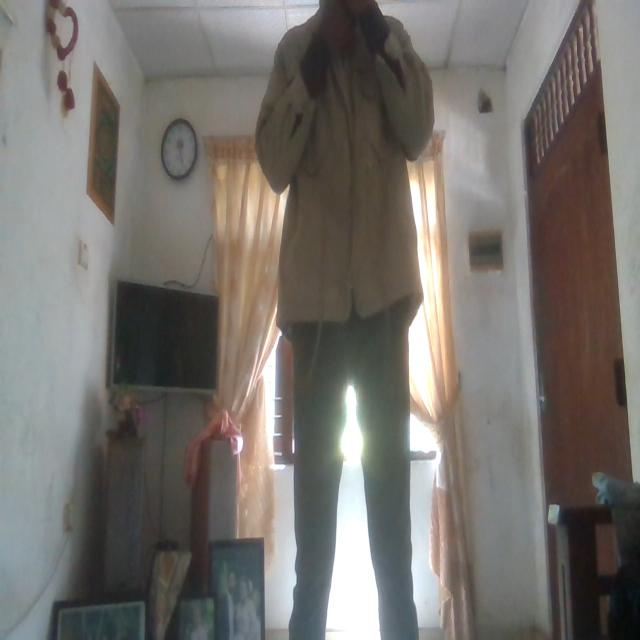Jacket_Wearer: (262, 12, 426, 312)
Person: (261, 0, 434, 640)
